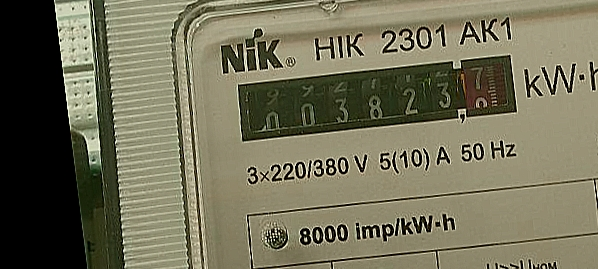0: (295, 98, 318, 127), (262, 106, 283, 131)
2: (399, 83, 422, 117)
3: (434, 78, 455, 110), (331, 93, 352, 124)
7: (469, 64, 489, 94)
8: (365, 91, 385, 121)
9: (261, 85, 282, 106)
screen: (228, 45, 523, 151)
